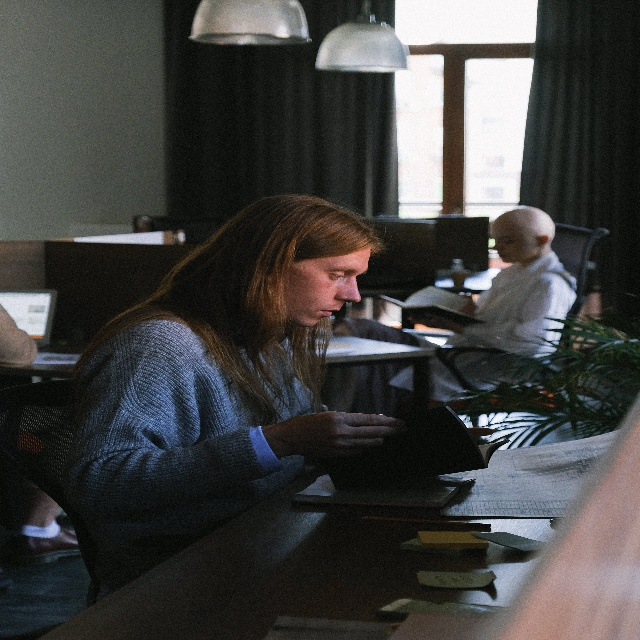Sin_guantes: (293, 412, 406, 457)
